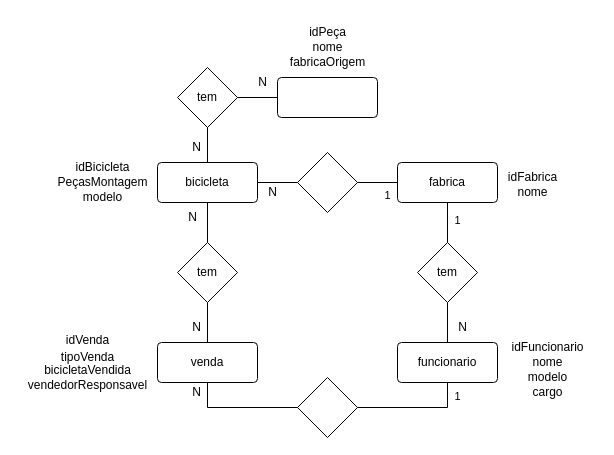
Some shapes in this 614 by 455 pixel diagram are drawn without their labels. Here are the shapes that lost their labels. From the top down, the centre of each, then its label:
At point 327,97: "peça".
At point 327,182: "monta".
At point 327,407: "faz".
